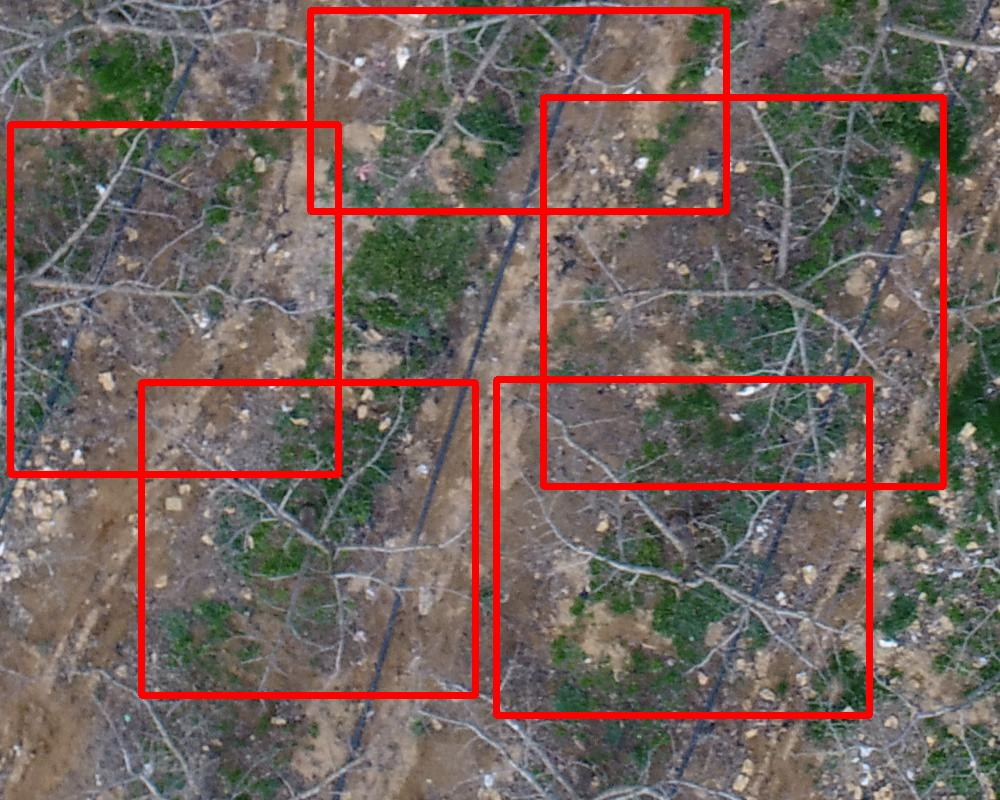apple: (543, 97, 943, 486), (496, 379, 869, 715), (10, 124, 338, 474), (141, 382, 475, 695), (310, 10, 726, 211)
